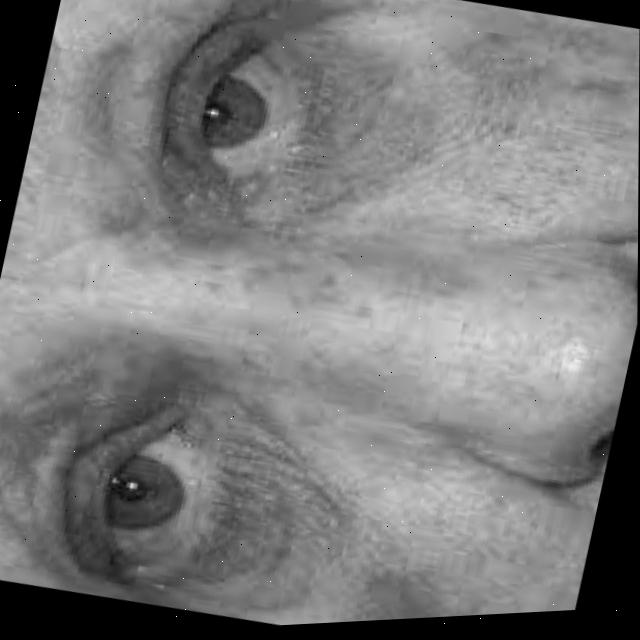Rosacea: (195, 389, 606, 630), (39, 0, 344, 270), (308, 0, 617, 242), (0, 338, 253, 624)
